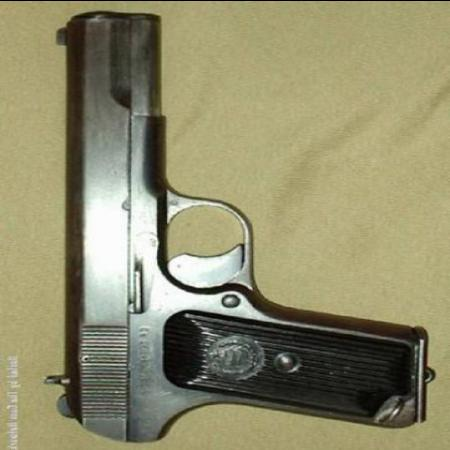Pistol: (41, 6, 425, 441)
